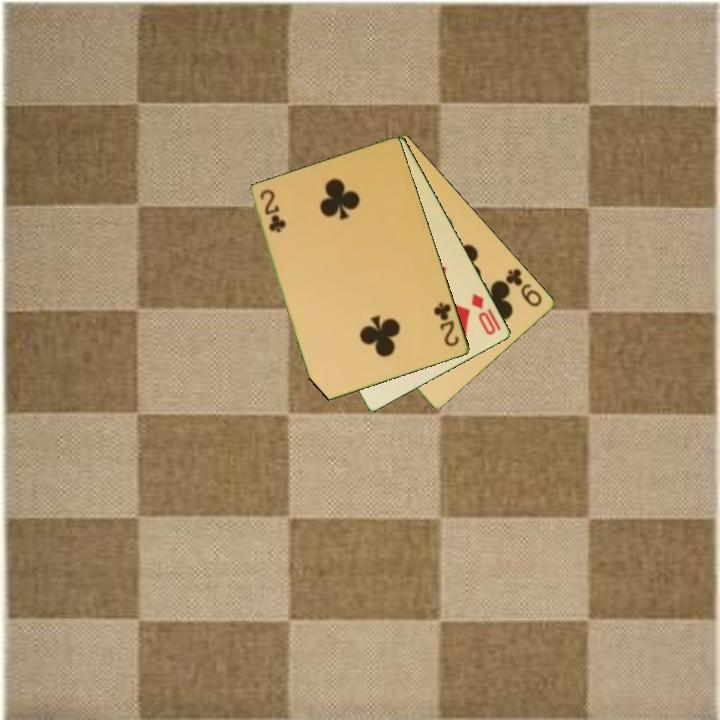10d: (468, 290, 499, 338)
2c: (430, 299, 462, 350), (257, 186, 287, 236)
9c: (502, 265, 546, 310)
